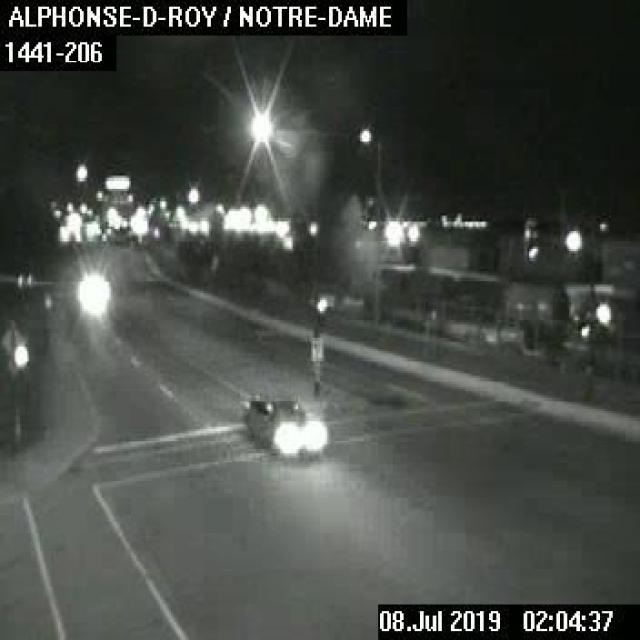vehicle: (242, 389, 324, 456)
